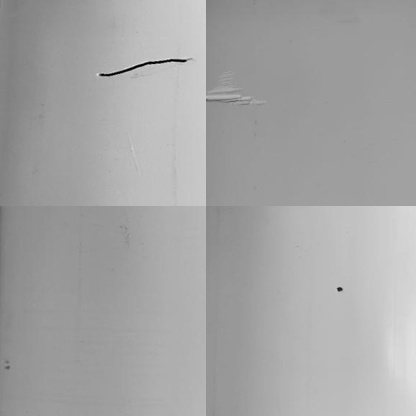fengxi: (92, 53, 191, 79)
kongdong: (334, 282, 342, 294)
sunshang: (208, 71, 261, 107)
